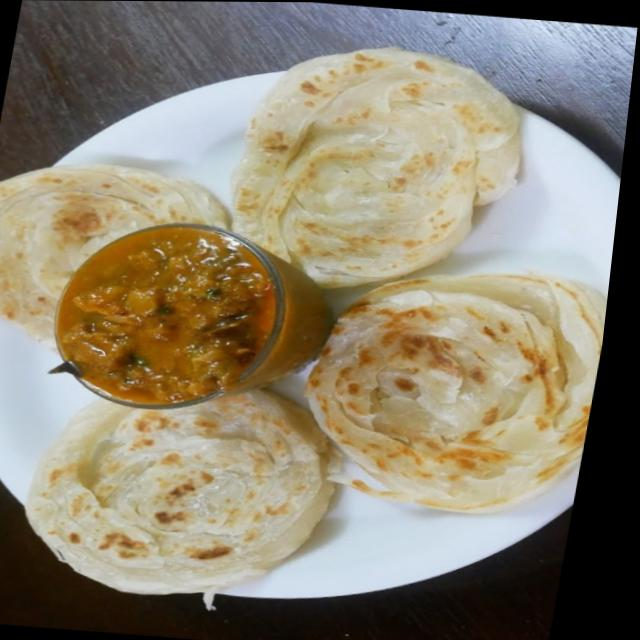CURRY: (52, 227, 278, 404)
PAROTTA: (0, 45, 608, 596)
